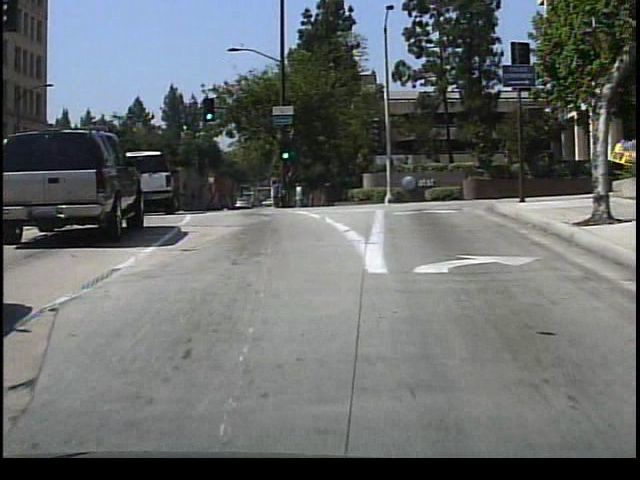person: (267, 172, 288, 210), (293, 179, 309, 209)
